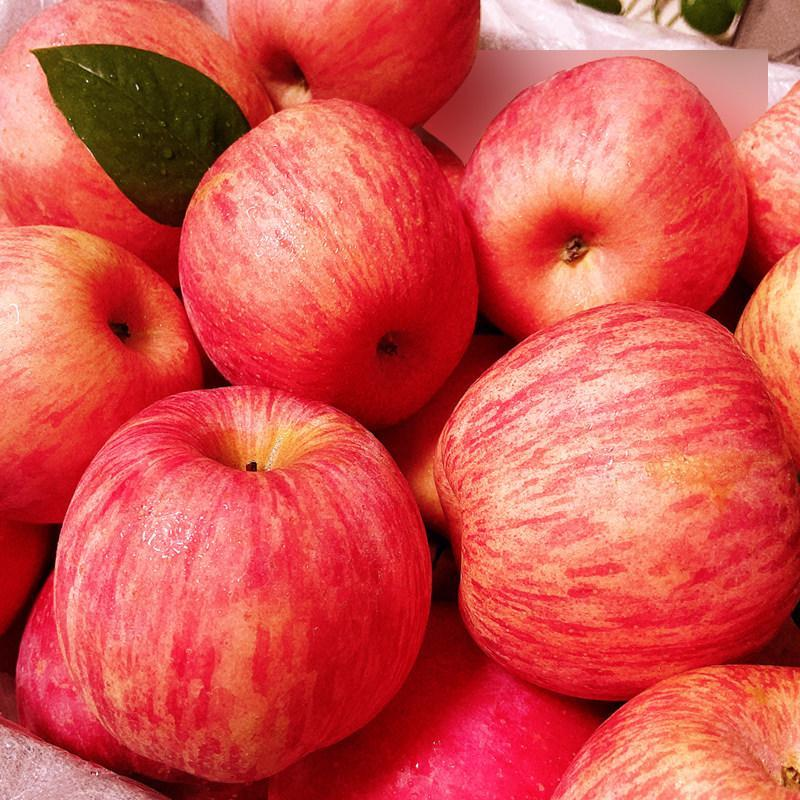apple: (49, 379, 432, 779), (432, 307, 793, 712), (174, 98, 482, 414), (458, 53, 750, 340), (6, 14, 260, 251), (1, 224, 203, 521), (729, 87, 798, 291)
